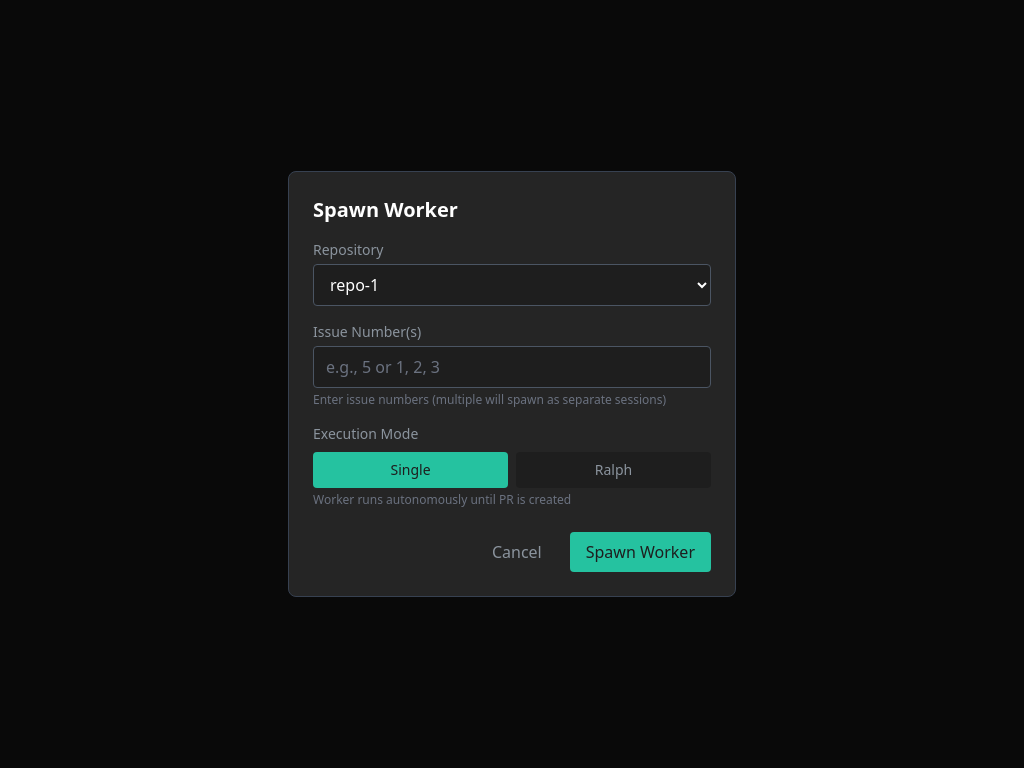
Scenario: SpawnDialog › shows validation error for mixed valid and invalid input
Expected: the dropdown is shown, [313,264,711,306]
Step 1. Type "1, abc, 3" into the field with placeholder "e.g., 5 or 1, 2, 3" → (512, 367), box [313,346,711,388]
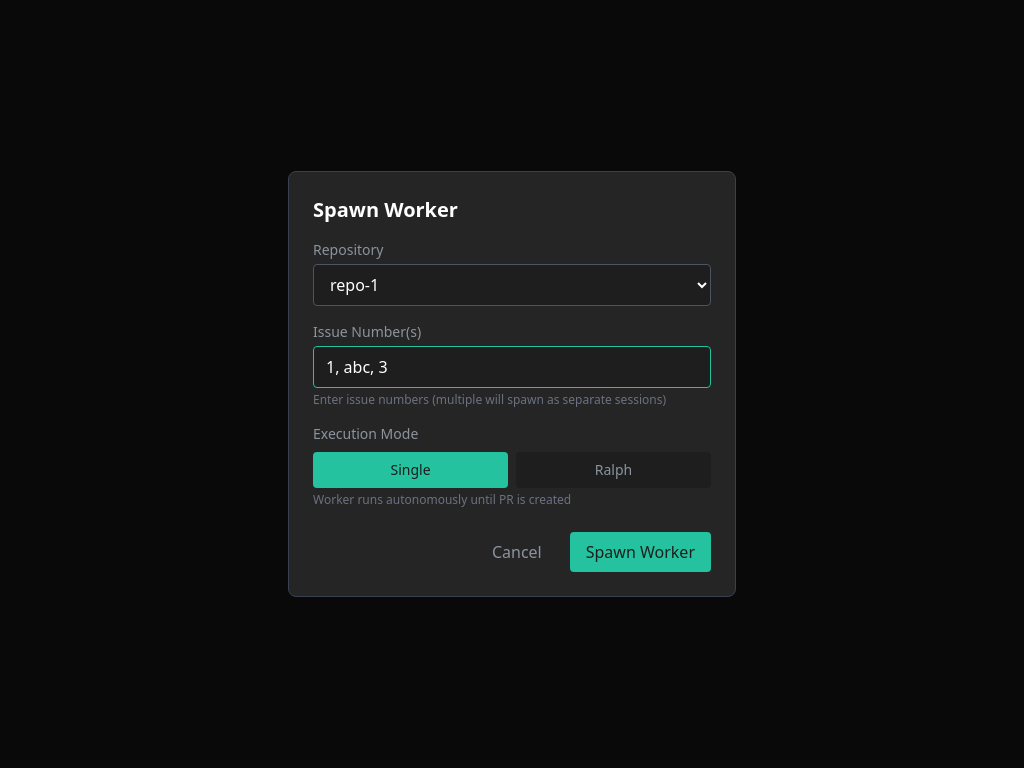
Step 2. Submit the form, box [313,240,711,572]
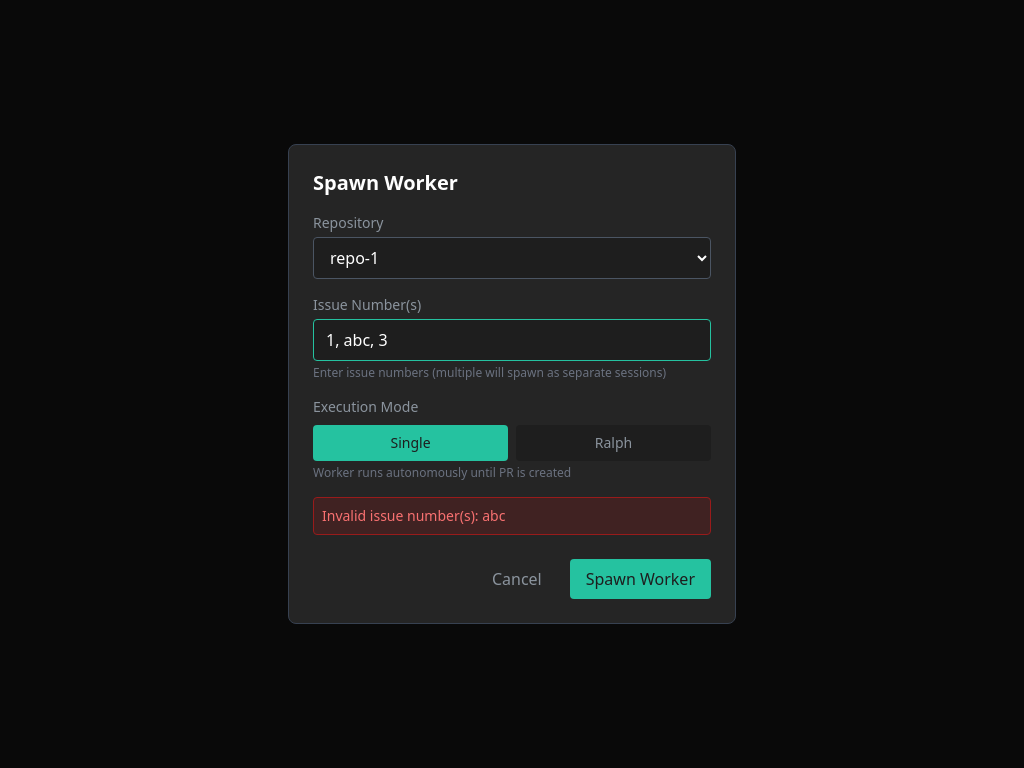
Expected: the text "Invalid issue number(s): abc" is shown, [313,497,711,535]
